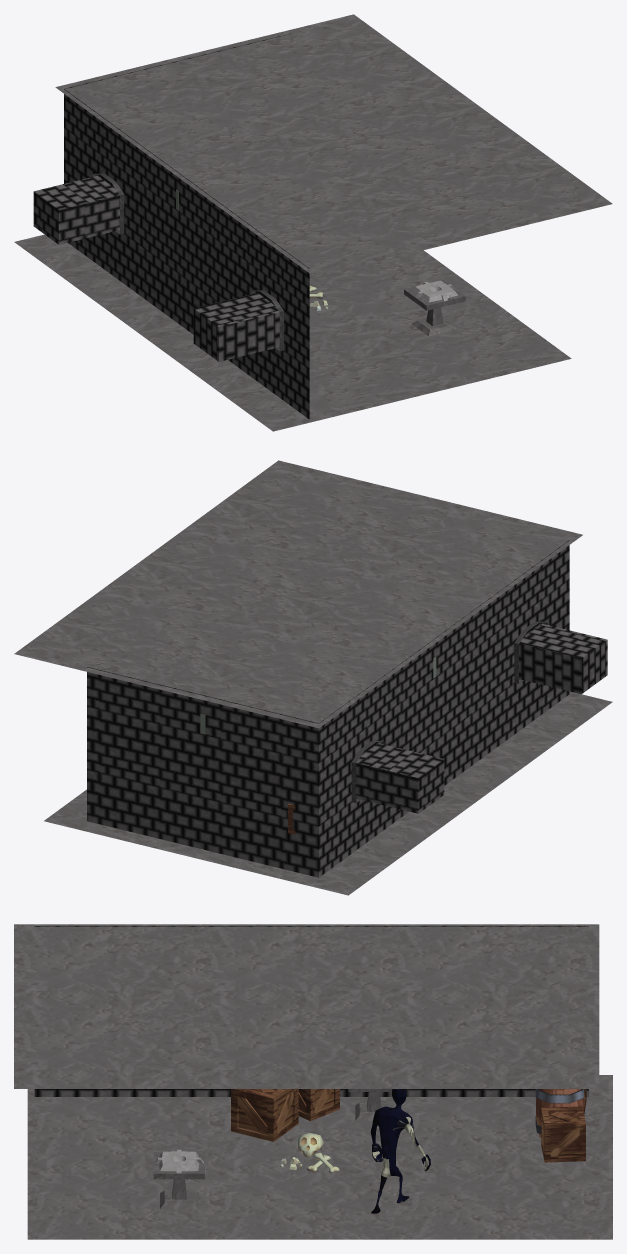
The model's file is menu_layout_w_camera.fbx.
The picture shows the model from 3 angles, top to bottom: view 1: azimuth 30°, elevation 25°; view 2: azimuth 150°, elevation 25°; view 3: azimuth 270°, elevation 25°; orthographic projection. The views are drawn at different scales.
Parts seen in each view (by area): view 1: floor2, pCube1, floor1, pCube57; view 2: floor2, pCube1, floor1; view 3: floor2, floor1, pCube1, polySurface81, demon, polySurface68, pCube57, polySurface94, pCylinder103, pCube98, pCube72.
Boxes of the visible parts, box(x1,y1,x2,y2) form: floor2: box(55, 14, 612, 276); pCube1: box(33, 33, 309, 419); floor1: box(14, 234, 571, 431); pCube57: box(404, 279, 465, 336); floor2: box(14, 460, 582, 728); pCube1: box(87, 540, 607, 877); floor1: box(44, 691, 612, 895); floor2: box(14, 924, 599, 1088); floor1: box(27, 1075, 612, 1239); pCube1: box(34, 926, 588, 1096); polySurface81: box(231, 1089, 298, 1141); demon: box(370, 1089, 430, 1213); polySurface68: box(541, 1106, 585, 1162); pCube57: box(153, 1149, 204, 1209); polySurface94: box(298, 1089, 339, 1121); pCylinder103: box(535, 1089, 584, 1137); pCube98: box(348, 1089, 392, 1121); pCube72: box(296, 1133, 323, 1157).
Size of the model in its own units: 928 by 379 by 1190.
